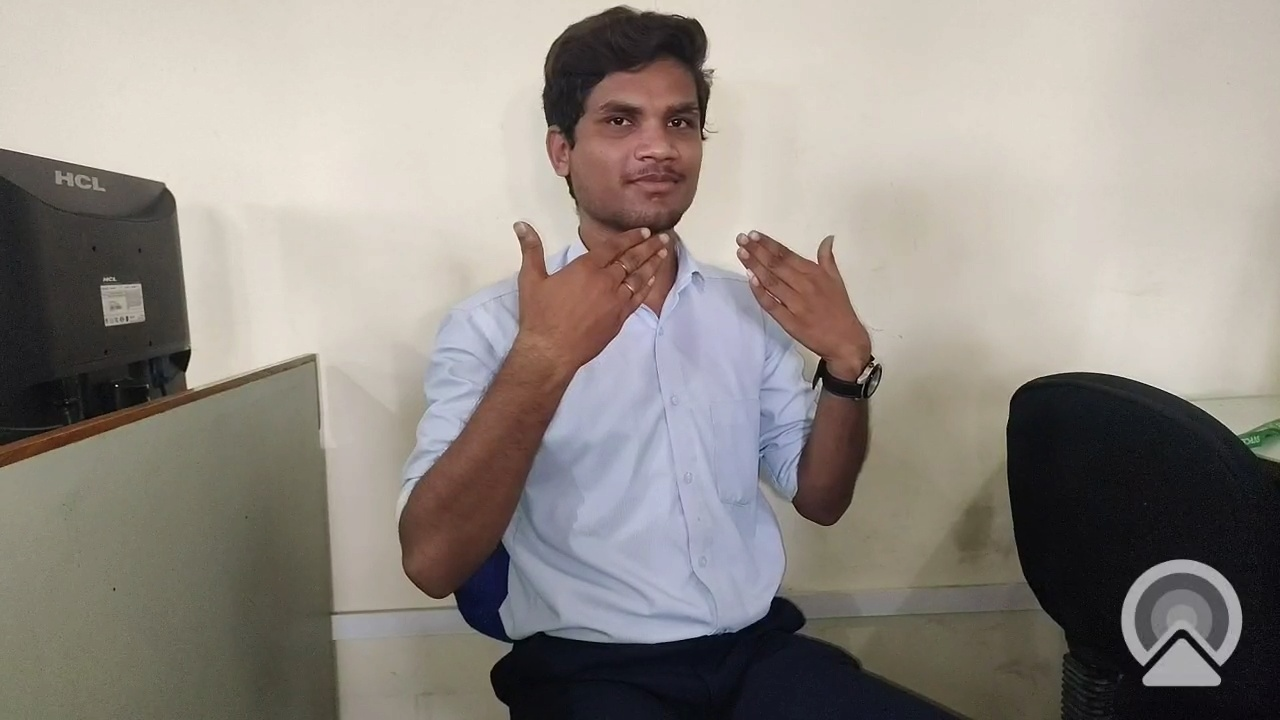Thank you: (387, 202, 916, 529)
